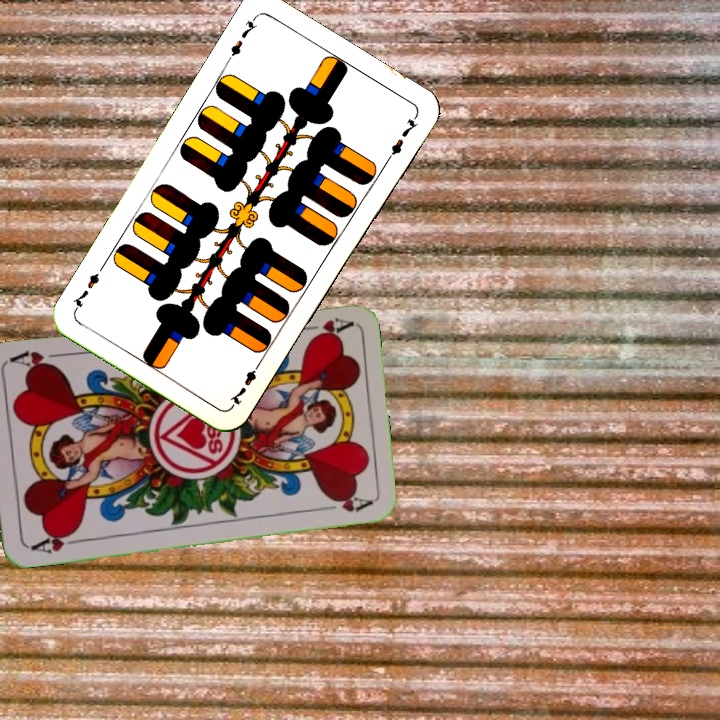E7: (225, 356, 265, 410), (222, 12, 260, 66)
HA: (25, 527, 84, 557), (294, 313, 353, 342)
